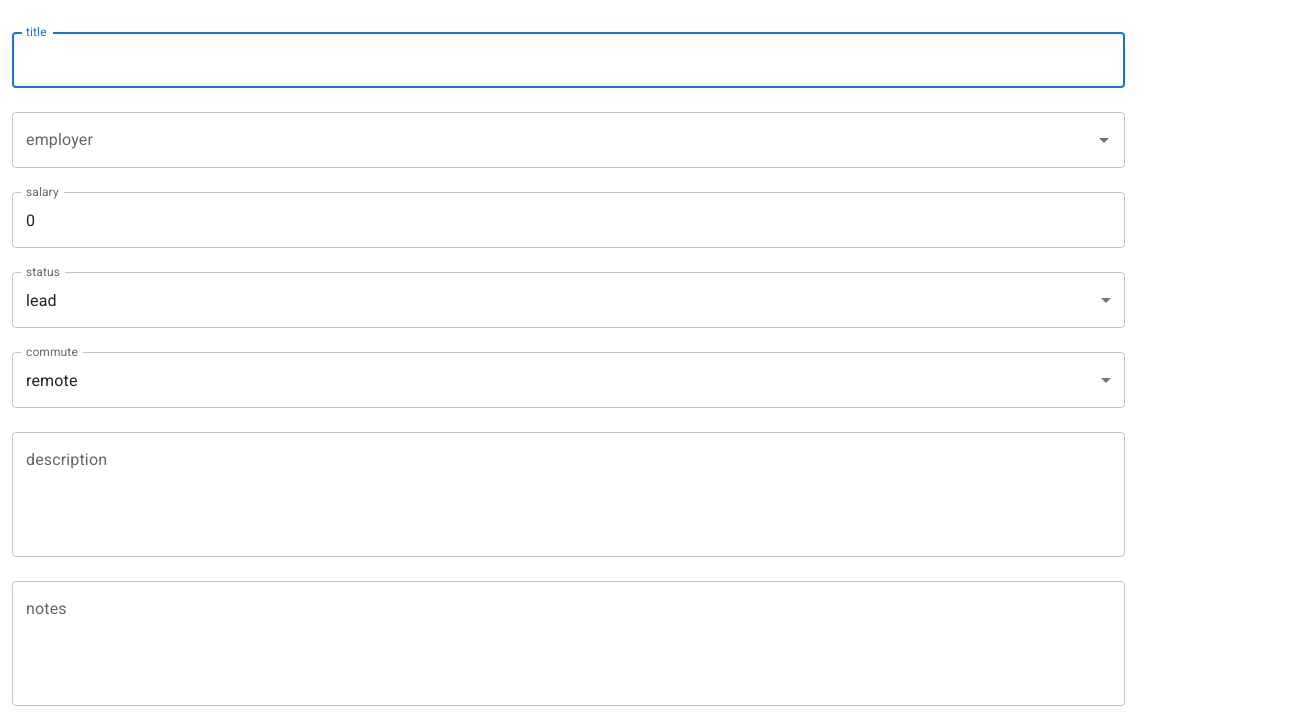
Test: JobForm › selects an employer from the dropdown
Click the dropdown labelled "employer" at (554, 140), box [21,121,1086,159]
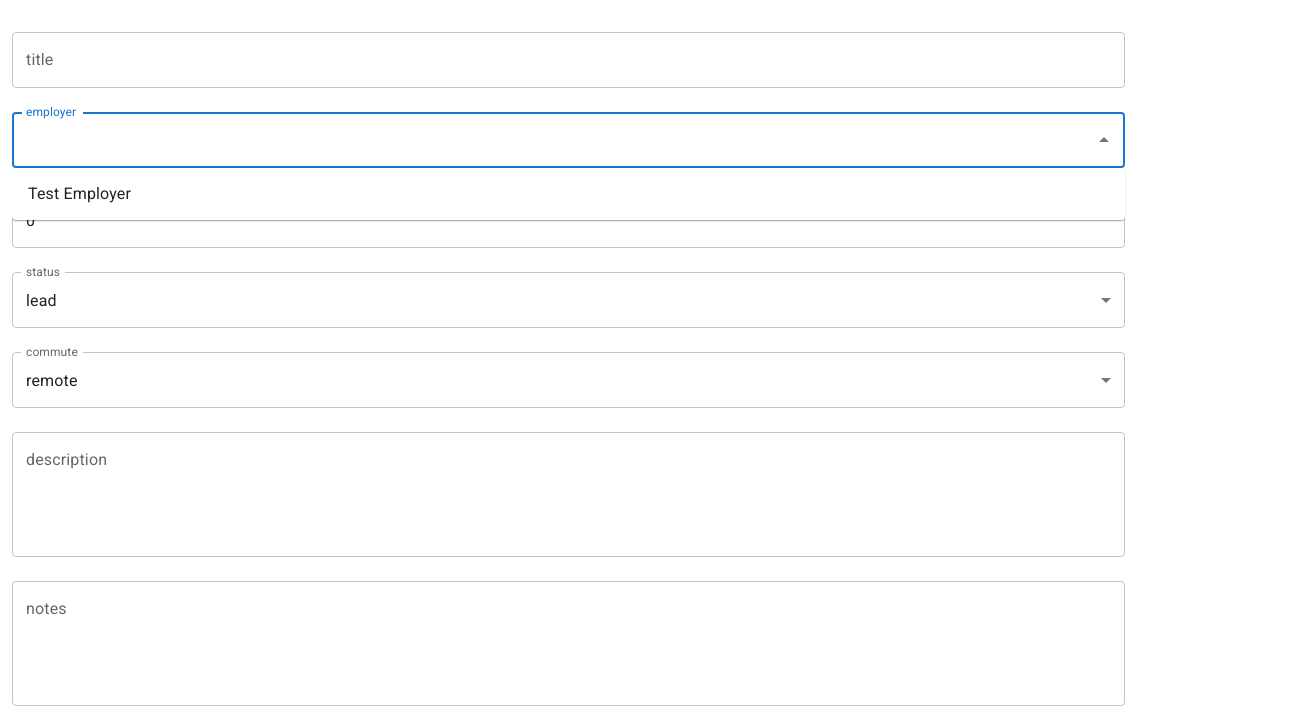
Click the option "Test Employer" at (80, 194), box [28,184,131,203]
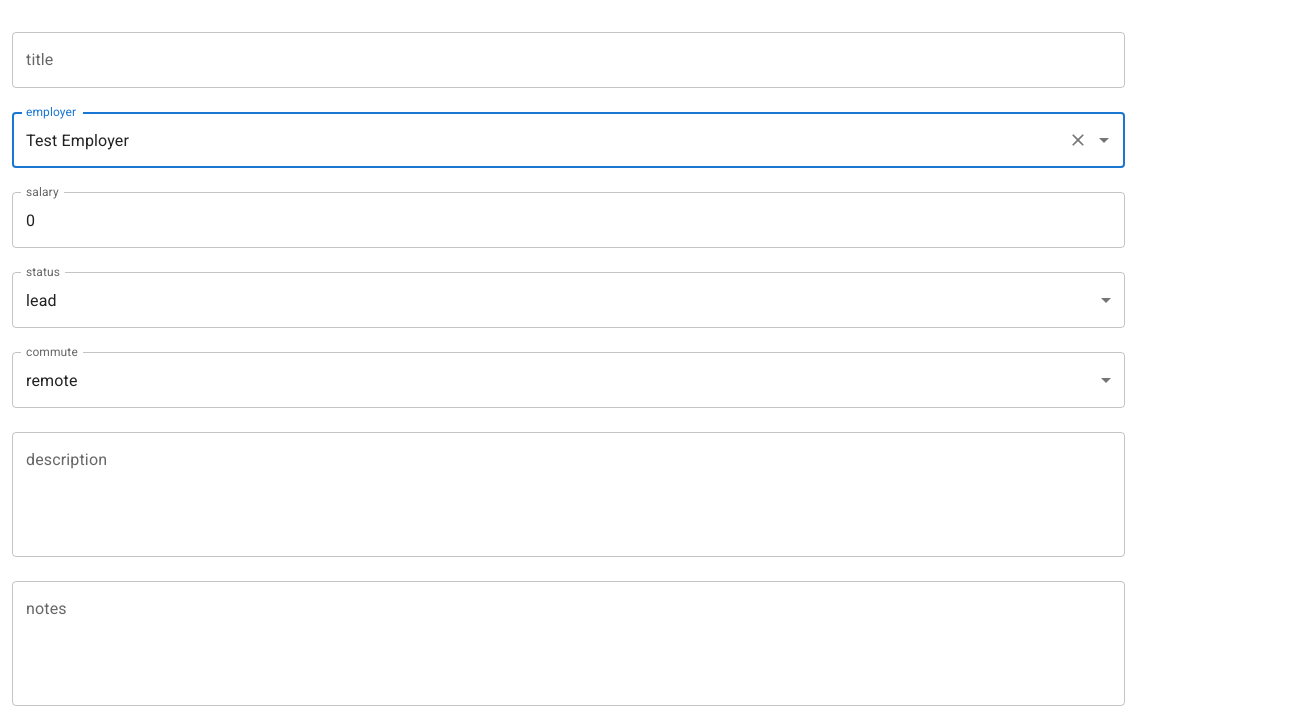
Check: the dropdown labelled "employer" holds "Test Employer", box [21,121,1060,159]
